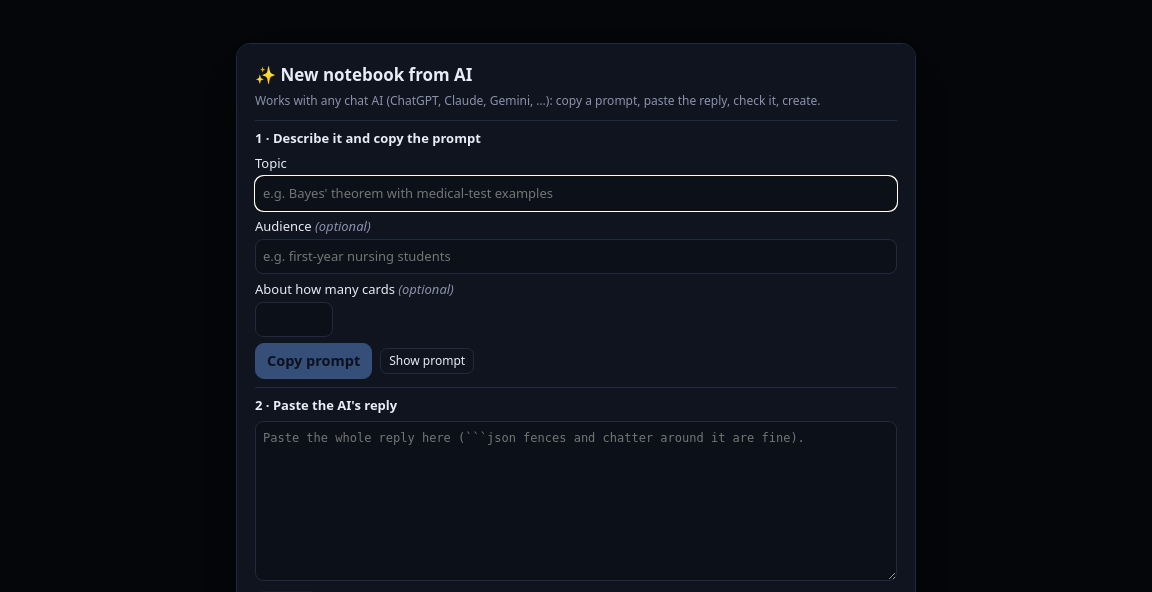
FromAiModal — step 1: the prompt › Show prompt toggles the prompt preview
This screenshot has width=1152, height=592.
Click the button "Show prompt" at (427, 361), box [380,348,474,374]
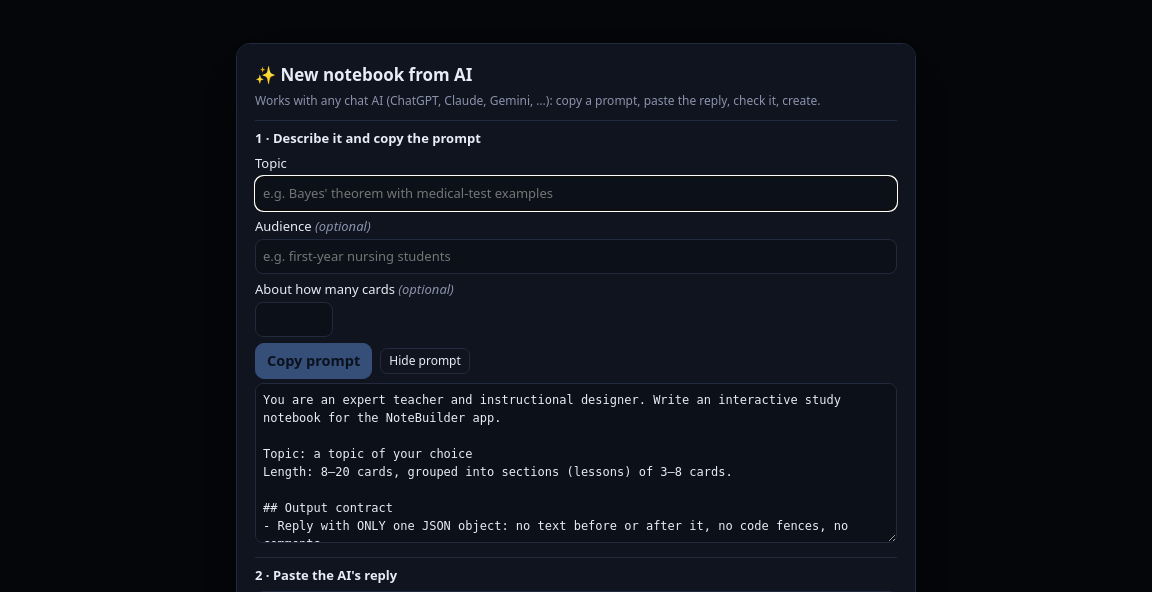
Result: the text box named "AI prompt" is shown at [255,383,897,543]
